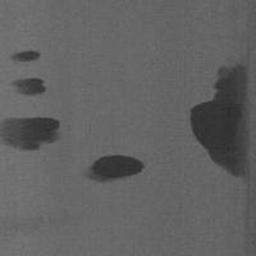Oil spot: (188, 60, 253, 187), (0, 115, 61, 152), (82, 152, 147, 184), (8, 77, 49, 97), (8, 49, 42, 64)
